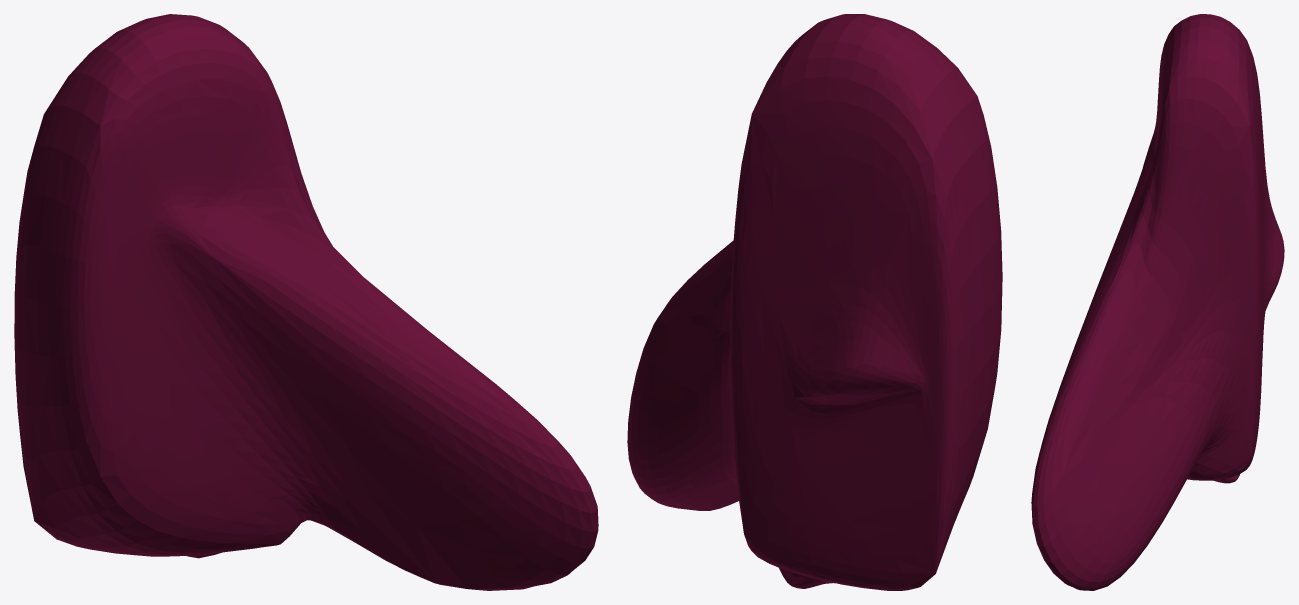
3 views of the same model, side by side, from view 1: azimuth 30°, elevation 25°; view 2: azimuth 150°, elevation 25°; view 3: azimuth 270°, elevation 25° (orthographic). The views are drawn at different scales.
Visible parts, largest first — view 1: 056_Cube.231; view 2: 056_Cube.231; view 3: 056_Cube.231.
Boxes of the visible parts, x1,y1,x2,y2 form: 056_Cube.231: [14, 14, 598, 590]; 056_Cube.231: [627, 14, 1002, 590]; 056_Cube.231: [1031, 14, 1284, 590].
Size of the model in its own units: 10.1 by 12.57 by 6.27.
